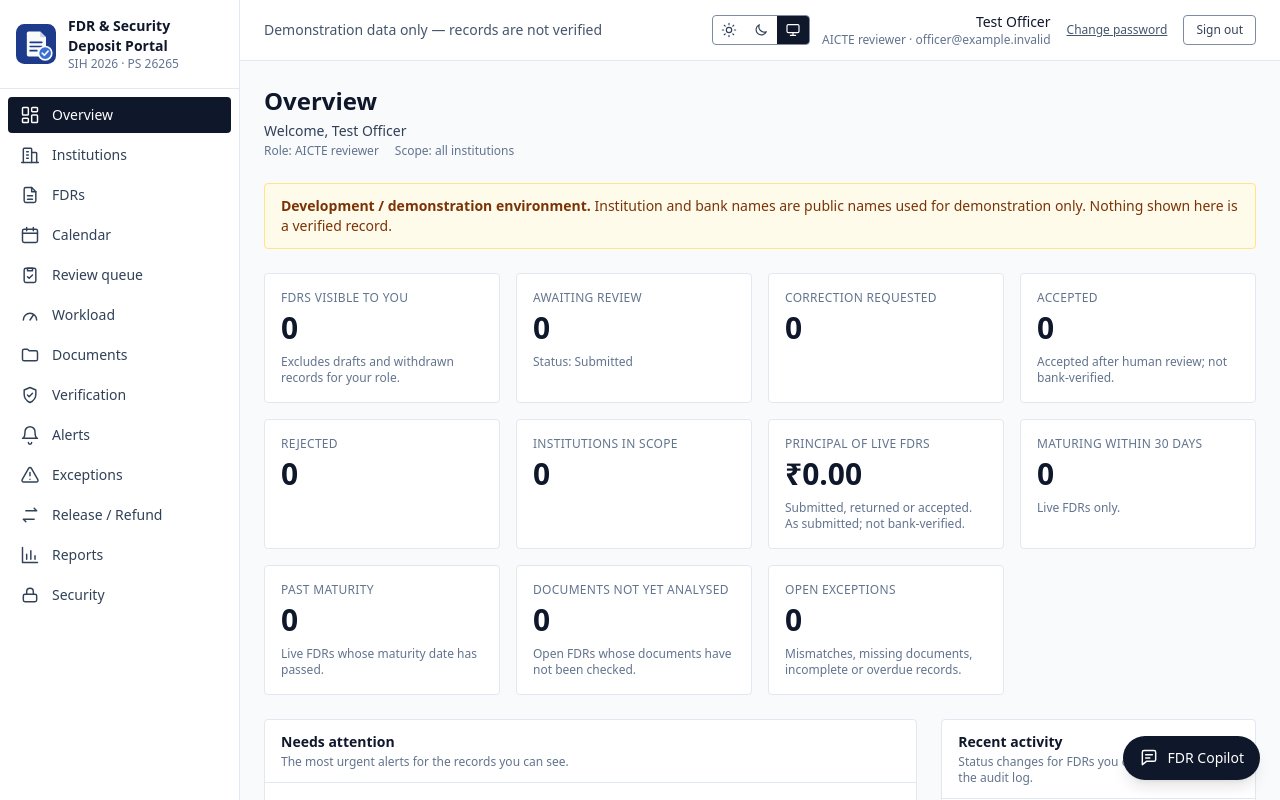
automated accessibility checks (structure only) › finds no violations with the Copilot panel open
The image size is (1280, 800).
Expected: the navigation bar named "Main" is shown, top-left (0, 89), bottom-right (239, 621)
Click the button with aria-label "Open FDR Copilot". click: [1192, 758]
box: top-left (1124, 736), bottom-right (1260, 780)
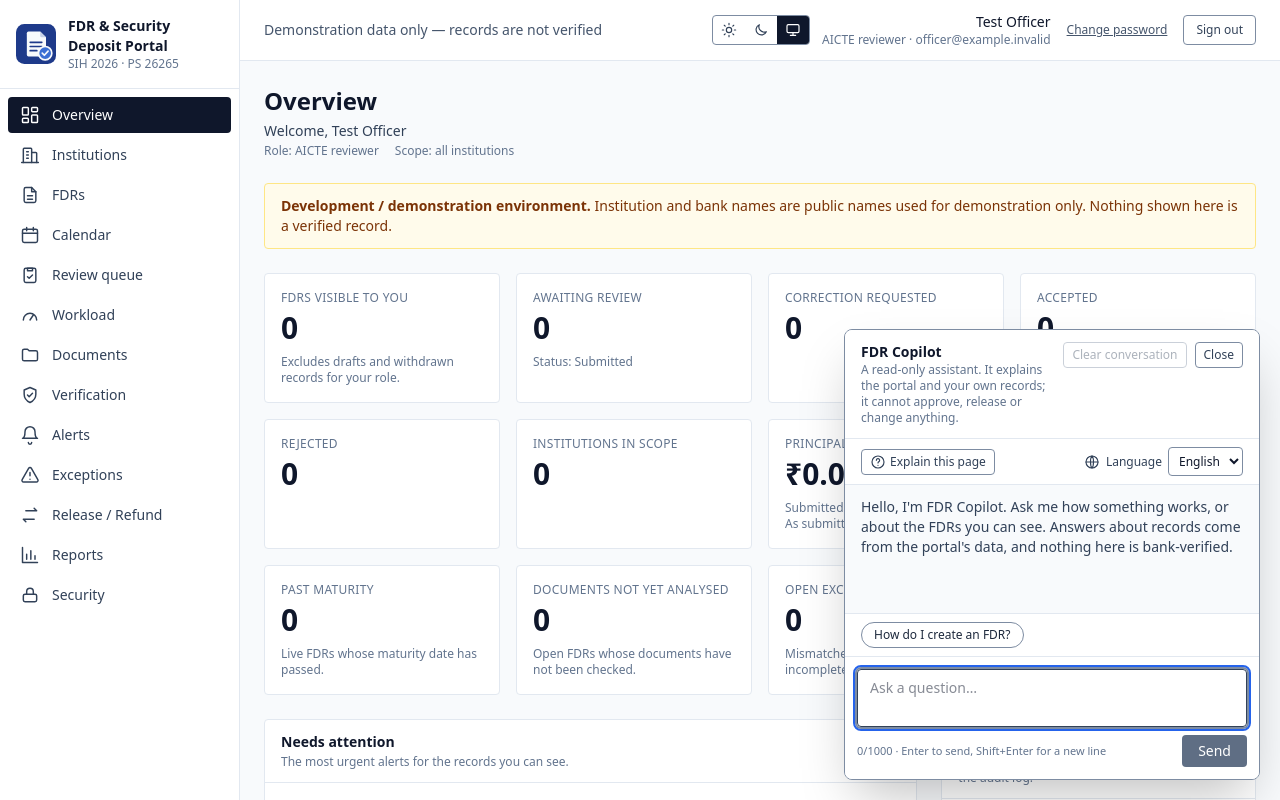
Expected: the dialog "FDR Copilot" is shown, top-left (844, 329), bottom-right (1260, 780)
